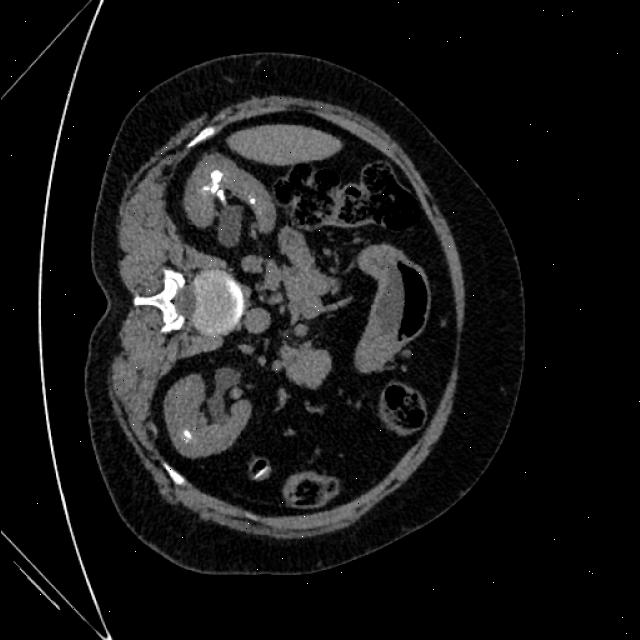kidneystone: (202, 170, 222, 194), (182, 430, 191, 442)
